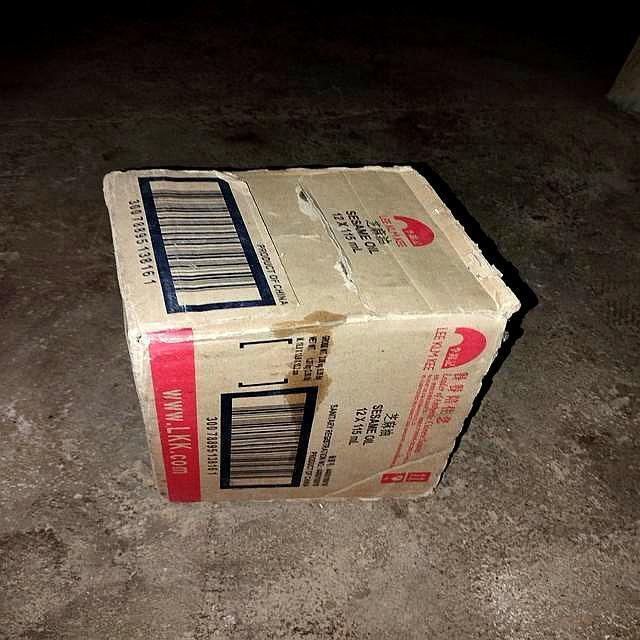Biodegradable: (103, 163, 525, 505)
